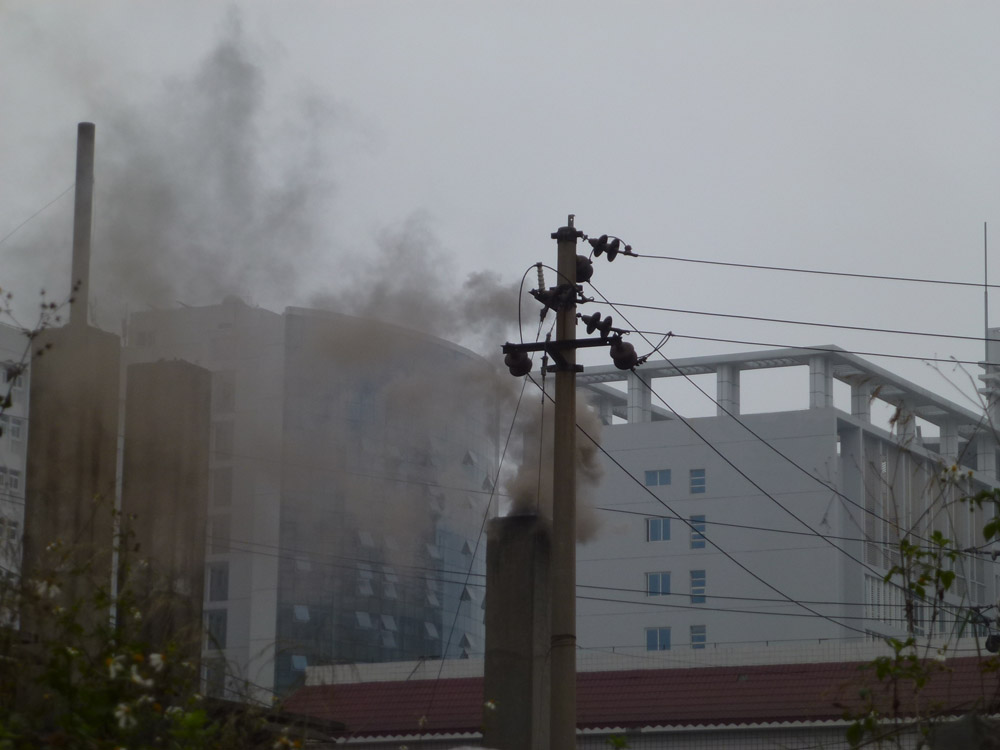dust: (489, 329, 614, 544)
